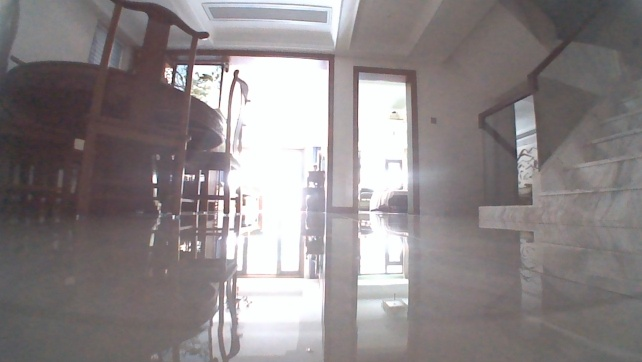dining_table: (0, 0, 254, 216)
